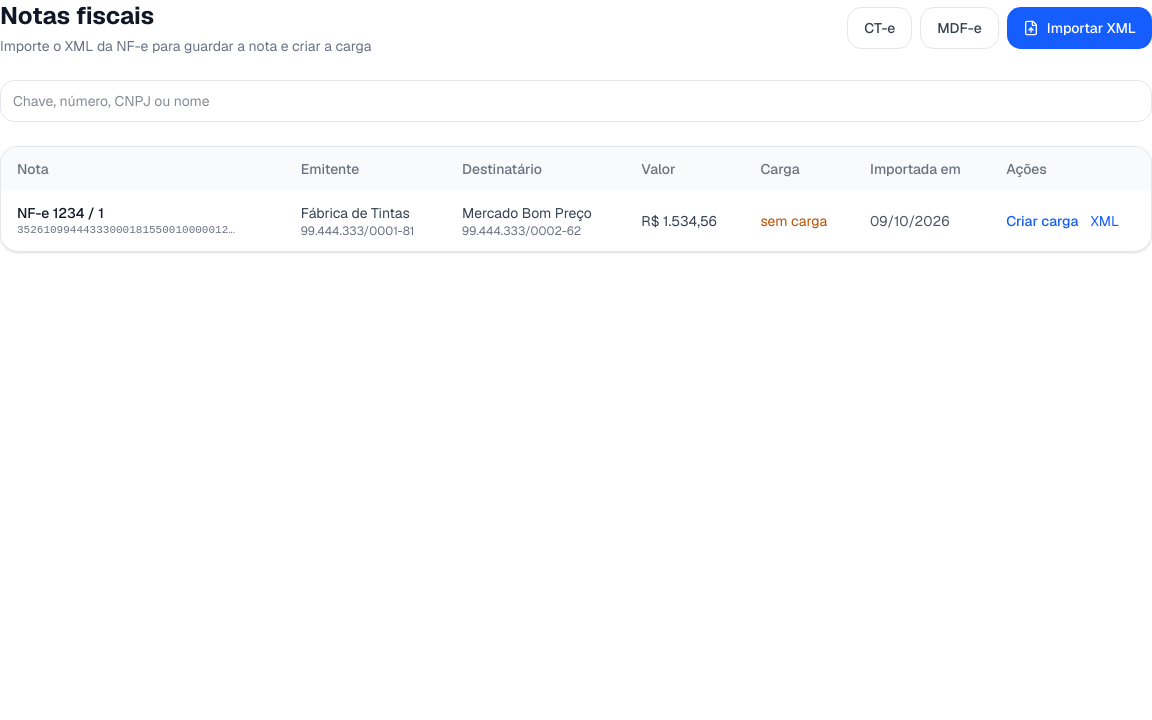
Test: tela de notas fiscais › nota sem carga abre com os avisos, aponta a carga que já tem a chave e liga pelo código de rastreio
Click the button "Criar carga".
click(1042, 221)  # box top-left (1006, 211), bottom-right (1078, 231)
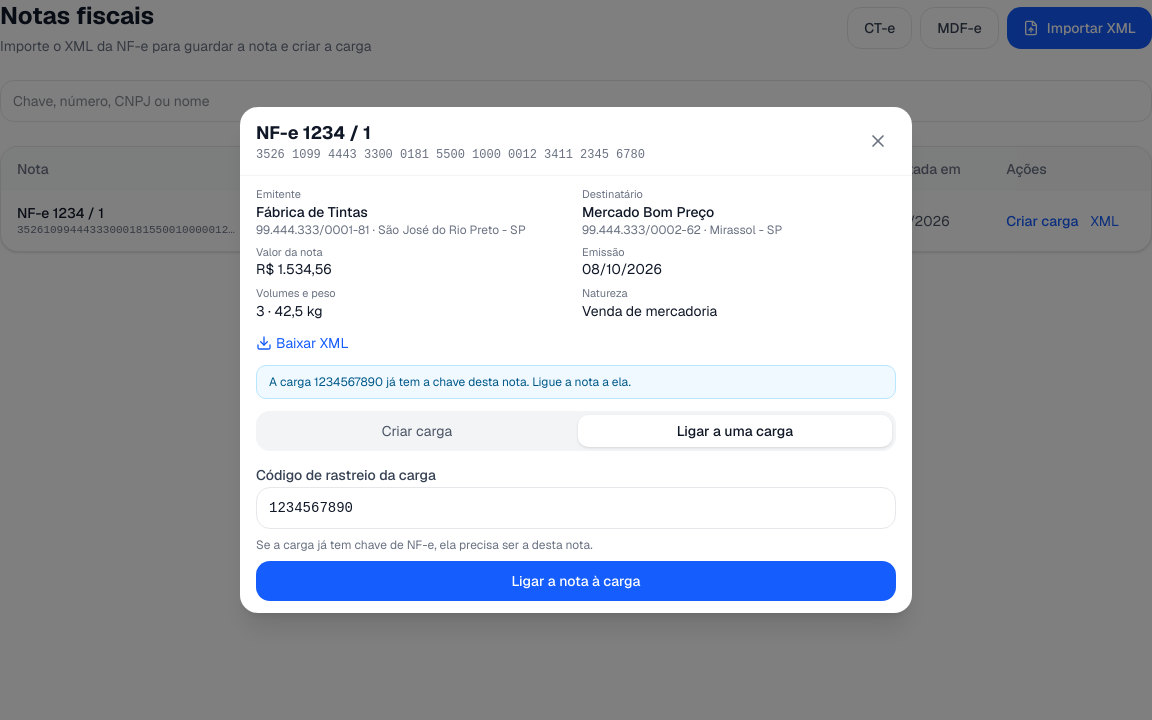
expect the dialog is shown: met
expect the text "A carga 1234567890 já tem a chave desta nota." is shown: met, box top-left (256, 365), bottom-right (896, 399)
expect the field labelled "Código de rastreio da carga" holds "1234567890": met, box top-left (256, 487), bottom-right (896, 529)
Click the tab "Criar carga".
click(417, 431)  # box top-left (260, 415), bottom-right (574, 447)
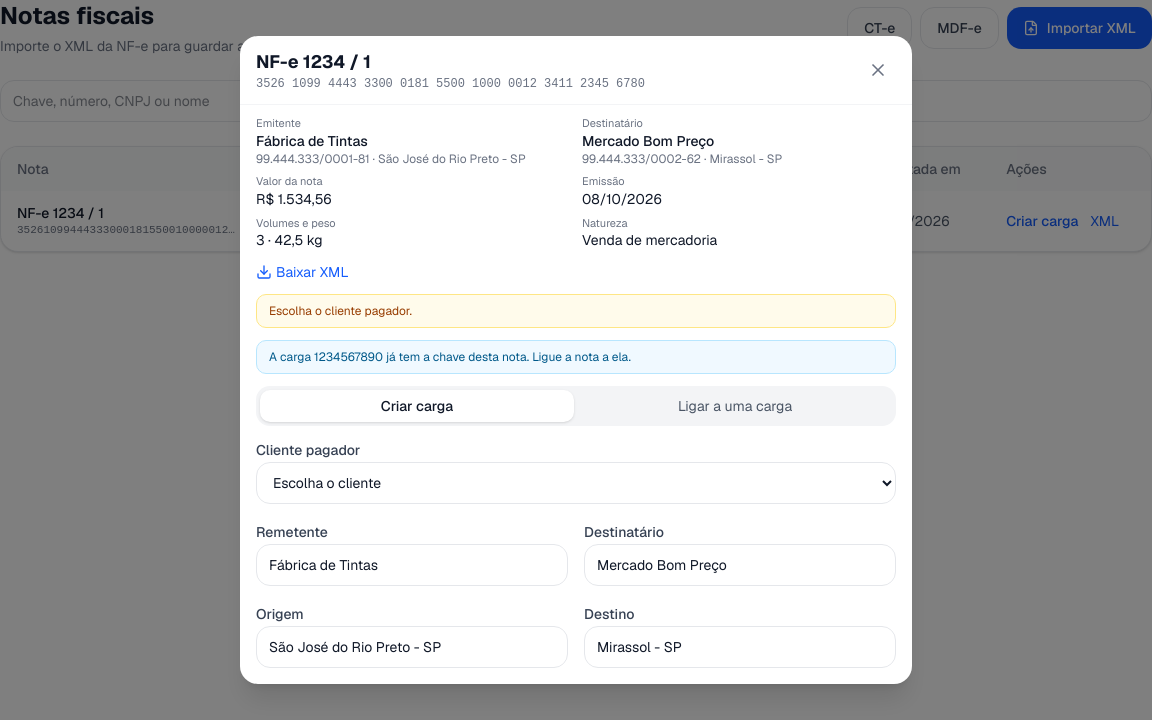
expect the list reads "Escolha o cliente pagador.": met, box top-left (269, 303), bottom-right (412, 319)
expect the dropdown labelled "Cliente pagador" shows "Escolha o cliente": met, box top-left (256, 462), bottom-right (896, 504)
Click the tab "Ligar a uma carga".
click(735, 406)  # box top-left (578, 390), bottom-right (892, 422)
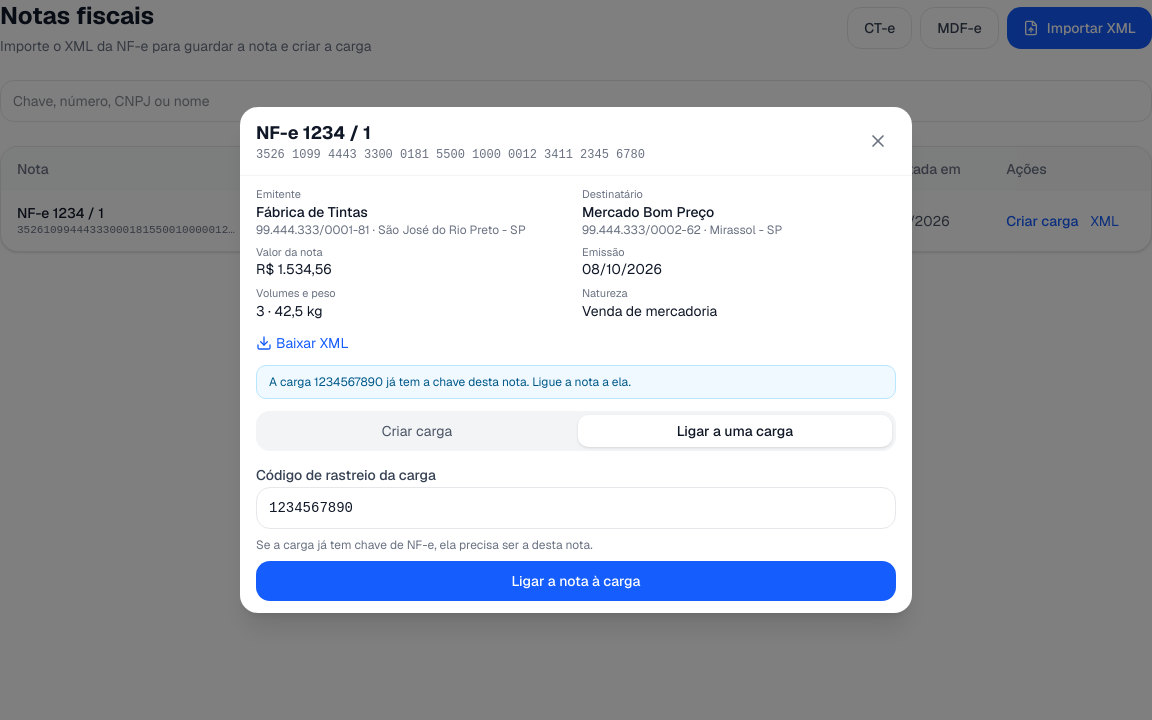
Submit the form, box top-left (256, 463), bottom-right (896, 601)
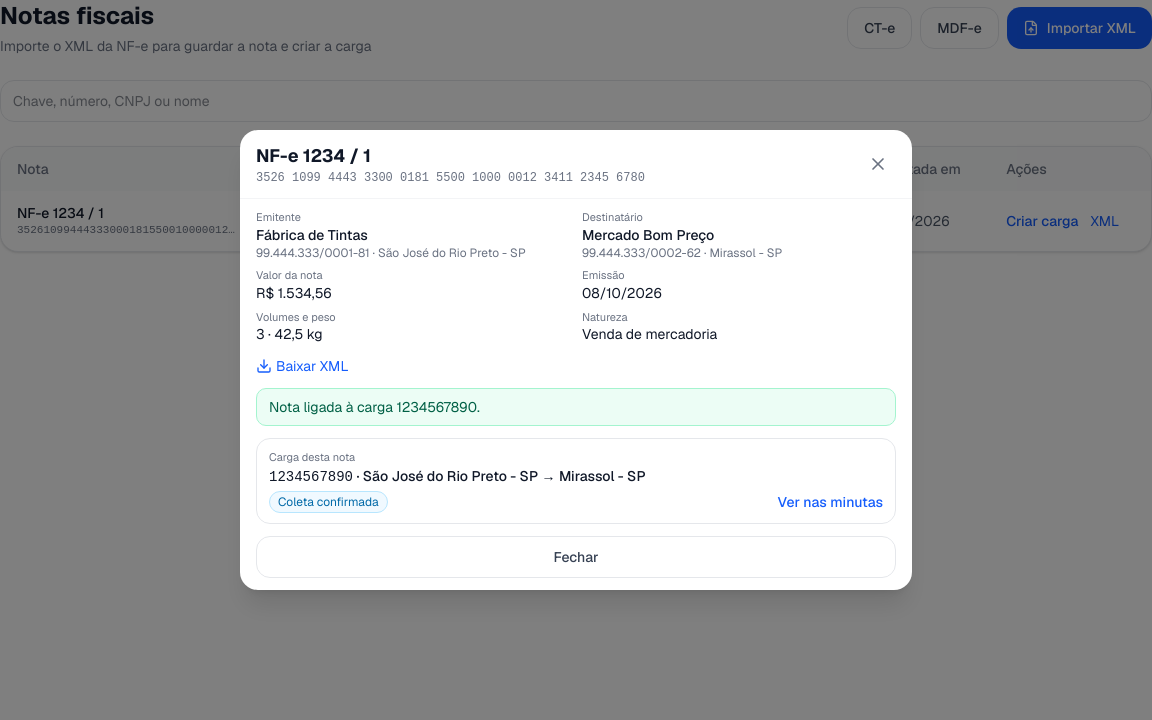
expect the dialog shows "Nota ligada à carga 1234567890.": met, box top-left (269, 398), bottom-right (480, 416)
